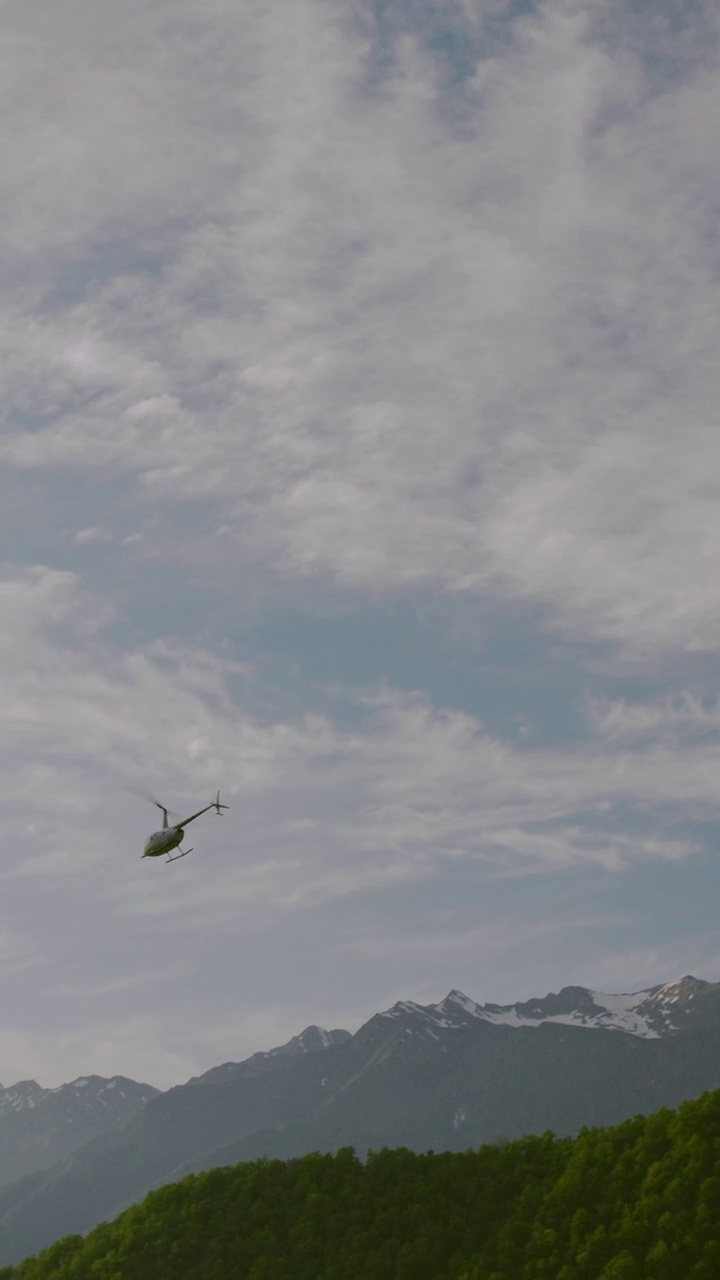heli: (140, 791, 228, 866)
